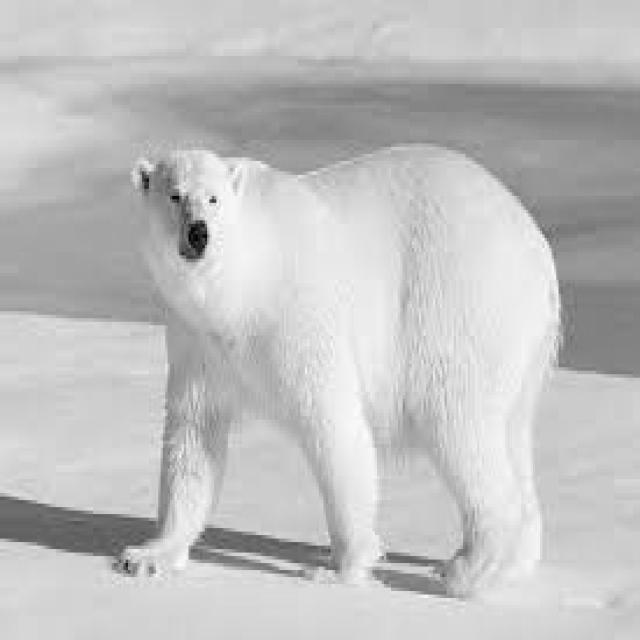Bear: (117, 147, 557, 559)
